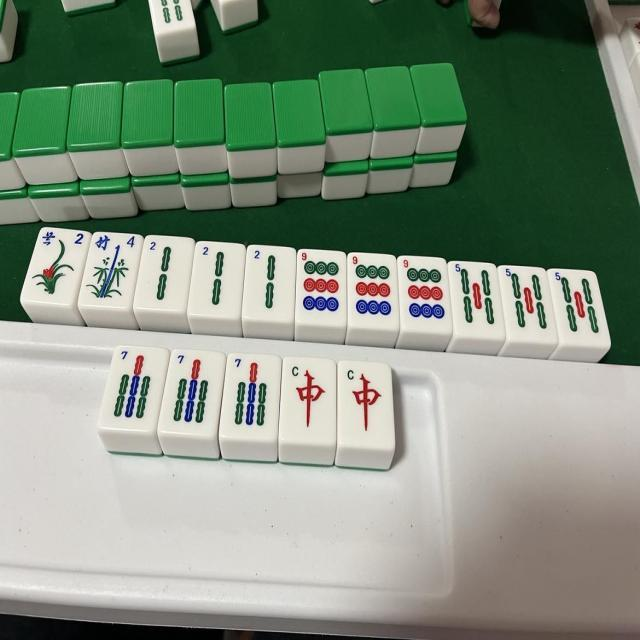bf2: (30, 228, 86, 302)
bf4: (86, 233, 137, 308)
hdr: (284, 362, 330, 436), (343, 364, 383, 437)
sb2: (145, 236, 181, 308), (197, 242, 232, 314), (250, 247, 282, 316)
sb5: (502, 266, 548, 336), (554, 270, 600, 338), (451, 264, 496, 329)
sb7: (111, 346, 154, 424), (169, 352, 212, 429), (230, 355, 271, 432)
sd9: (401, 257, 447, 325), (351, 255, 396, 322), (298, 251, 341, 315)
